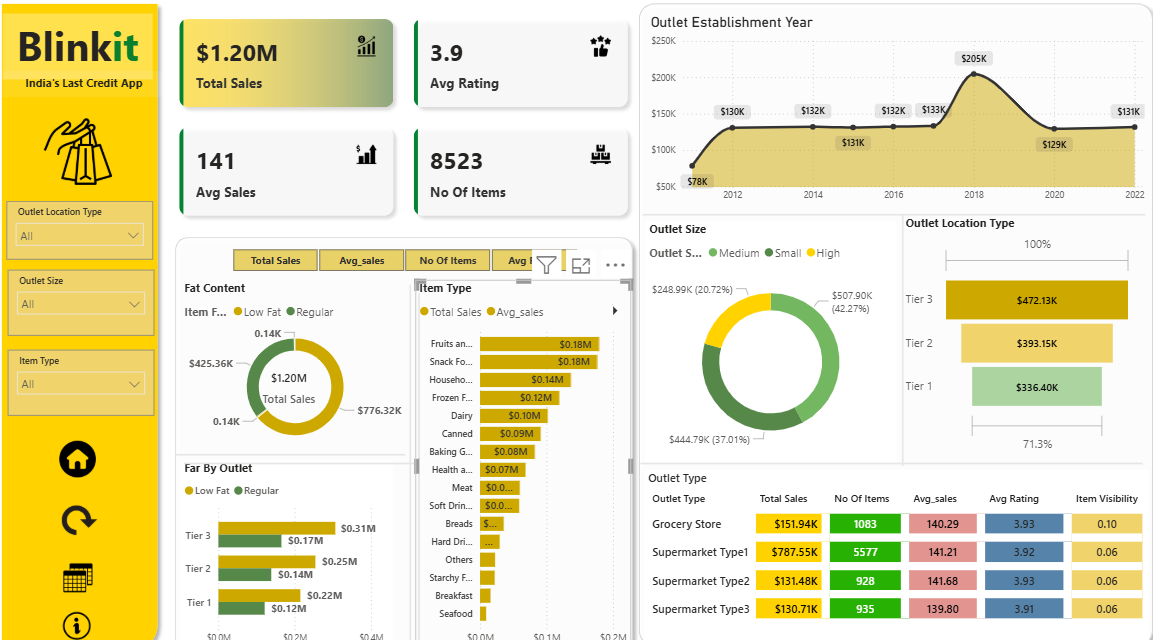

This screenshot's page, from the dashboard's own definition file:
{"tool":"powerbi","page":{"name":"Page 1","canvas":[1400,800],"ordinal":0},"visuals":[{"type":"shape","box":[0,0,205.6,800],"z":0},{"type":"textbox","box":[10.5,21,180.1,79.5],"z":1000},{"type":"textbox","box":[10.5,90.1,195.1,31.5],"z":2000},{"type":"cardVisual","fields":{"Data":["BlinkIT Grocery Data.Total Sales","BlinkIT Grocery Data.Avg Rating","BlinkIT Grocery Data.avg sales","BlinkIT Grocery Data.No Of Items"]},"box":[205.6,10.5,573.3,270.2],"z":3000},{"type":"shape","box":[208.6,280.7,567.3,519.3],"z":4000},{"type":"donutChart","title":"Fat Content","fields":{"Y":["BlinkIT Grocery Data.Total Sales","BlinkIT Grocery Data.Avg_sales","BlinkIT Grocery Data.No Of Items","BlinkIT Grocery Data.Avg Rating"],"Category":["BlinkIT Grocery Data.Item Fat Content"]},"box":[223.6,340.7,276.2,210.1],"z":5000},{"type":"slicer","fields":{"Values":["Metrics.Metrics"]},"box":[261.2,297.2,462.3,39],"z":6000},{"type":"cardVisual","fields":{"Data":["BlinkIT Grocery Data.Total Sales"]},"box":[303.2,432.2,102.1,72],"z":7000},{"type":"clusteredBarChart","title":"Far By Outlet","fields":{"Y":["BlinkIT Grocery Data.Total Sales"],"Category":["BlinkIT Grocery Data.Outlet Location Type"],"Series":["BlinkIT Grocery Data.Item Fat Content"]},"box":[223.6,556.8,255.1,231.1],"z":8000},{"type":"shape","box":[217.6,535.8,276.2,30],"z":9000},{"type":"shape","box":[493.8,346.7,12,441.3],"z":10000},{"type":"barChart","title":"Item Type","fields":{"Y":["BlinkIT Grocery Data.Total Sales","BlinkIT Grocery Data.Avg_sales","BlinkIT Grocery Data.No Of Items","BlinkIT Grocery Data.Avg Rating"],"Category":["BlinkIT Grocery Data.Item Type"]},"box":[505.8,340.7,259.6,447.3],"z":11000},{"type":"shape","box":[765.4,0,634.9,789.5],"z":12000},{"type":"lineChart","title":" Outlet Establishment Year","fields":{"Y":["BlinkIT Grocery Data.Total Sales"],"Category":["BlinkIT Grocery Data.Outlet Establishment Year"]},"box":[783.5,21,603.3,235.6],"z":13000},{"type":"shape","box":[227.6,545.8,276.2,30],"z":14000},{"type":"shape","box":[778.9,255.1,603.3,15],"z":15000},{"type":"donutChart","title":"Outlet Size","fields":{"Y":["BlinkIT Grocery Data.Total Sales"],"Category":["BlinkIT Grocery Data.Outlet Size"]},"box":[781.9,270.2,301.7,291.2],"z":16000},{"type":"shape","box":[503.8,356.7,12,441.3],"z":17000},{"type":"shape","box":[1079.1,262.7,24,301.7],"z":18000},{"type":"funnel","title":" Outlet Location Type","fields":{"Y":["BlinkIT Grocery Data.Total Sales"],"Category":["BlinkIT Grocery Data.Outlet Location Type"]},"box":[1089.6,262.7,282.2,291.2],"z":19000},{"type":"shape","box":[775.9,553.8,603.3,15],"z":20000},{"type":"pivotTable","title":"Outlet Type","fields":{"Rows":["BlinkIT Grocery Data.Outlet Type"],"Values":["BlinkIT Grocery Data.Total Sales","BlinkIT Grocery Data.No Of Items","BlinkIT Grocery Data.Avg_sales","BlinkIT Grocery Data.Avg Rating","Avg(BlinkIT Grocery Data.Item Visibility)"]},"box":[780.4,568.8,606.3,208.6],"z":21000},{"type":"slicer","fields":{"Values":["BlinkIT Grocery Data.Outlet Location Type"]},"box":[15,246.1,175.6,70.5],"z":22000},{"type":"slicer","fields":{"Values":["BlinkIT Grocery Data.Outlet Size"]},"box":[16.5,328.7,175.6,79.5],"z":23000},{"type":"slicer","fields":{"Values":["BlinkIT Grocery Data.Item Type"]},"box":[16.5,424.7,175.6,79.5],"z":24000},{"type":"image","box":[13.5,139.6,174.1,94.6],"z":25000},{"type":"image","box":[73.5,526.8,54,58.5],"z":26000},{"type":"image","box":[75,603.3,55.5,52.5],"z":27000},{"type":"image","box":[73.5,673.9,54,49.5],"z":28000},{"type":"image","box":[63,729.4,73.5,54],"z":29000}]}

Visuals, with their boxes in screenshot pixels (x1, y1, x2, y2), scaled from the page's 1400x800 canvas onto the 1153x640 screenshot:
shape: left=0, top=0, right=169, bottom=639
textbox: left=9, top=17, right=157, bottom=80
textbox: left=9, top=72, right=169, bottom=97
cardVisual - BlinkIT Grocery Data.Total Sales x BlinkIT Grocery Data.Avg Rating: left=169, top=8, right=641, bottom=225
shape: left=172, top=225, right=639, bottom=639
"Fat Content" donutChart: left=184, top=273, right=412, bottom=441
slicer - Metrics.Metrics: left=215, top=238, right=596, bottom=269
cardVisual - BlinkIT Grocery Data.Total Sales: left=250, top=346, right=334, bottom=403
"Far By Outlet" clusteredBarChart: left=184, top=445, right=394, bottom=630
shape: left=179, top=429, right=407, bottom=453
shape: left=407, top=277, right=417, bottom=630
"Item Type" barChart: left=417, top=273, right=630, bottom=630
shape: left=630, top=0, right=1152, bottom=632
" Outlet Establishment Year" lineChart: left=645, top=17, right=1142, bottom=205
shape: left=187, top=437, right=415, bottom=461
shape: left=641, top=204, right=1138, bottom=216
"Outlet Size" donutChart: left=644, top=216, right=892, bottom=449
shape: left=415, top=285, right=425, bottom=638
shape: left=889, top=210, right=908, bottom=452
" Outlet Location Type" funnel: left=897, top=210, right=1130, bottom=443
shape: left=639, top=443, right=1136, bottom=455
"Outlet Type" pivotTable: left=643, top=455, right=1142, bottom=622
slicer - BlinkIT Grocery Data.Outlet Location Type: left=12, top=197, right=157, bottom=253
slicer - BlinkIT Grocery Data.Outlet Size: left=14, top=263, right=158, bottom=327
slicer - BlinkIT Grocery Data.Item Type: left=14, top=340, right=158, bottom=403
image: left=11, top=112, right=155, bottom=187
image: left=61, top=421, right=105, bottom=468
image: left=62, top=483, right=107, bottom=525
image: left=61, top=539, right=105, bottom=579
image: left=52, top=584, right=112, bottom=627
